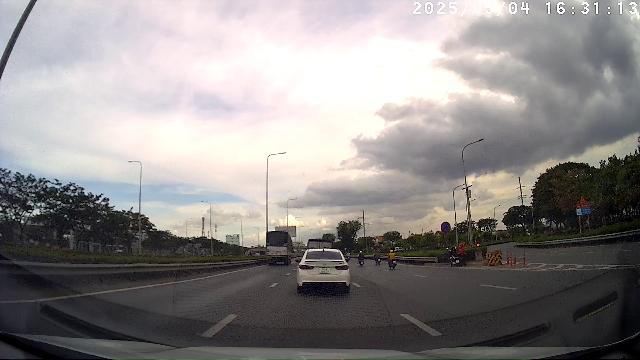130-cam-dung-va-do-xe: (441, 221, 451, 233)
